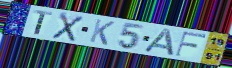5: (117, 22, 146, 50)
A: (142, 27, 177, 57)
F: (173, 31, 208, 58)
K: (87, 18, 116, 47)
T: (32, 9, 53, 36)
X: (50, 11, 86, 43)
